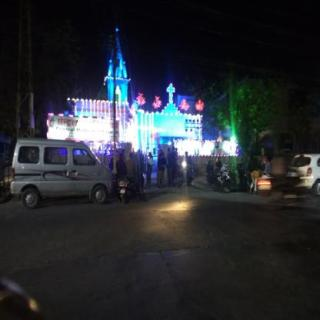Normal_vehicle: (12, 138, 113, 208)
